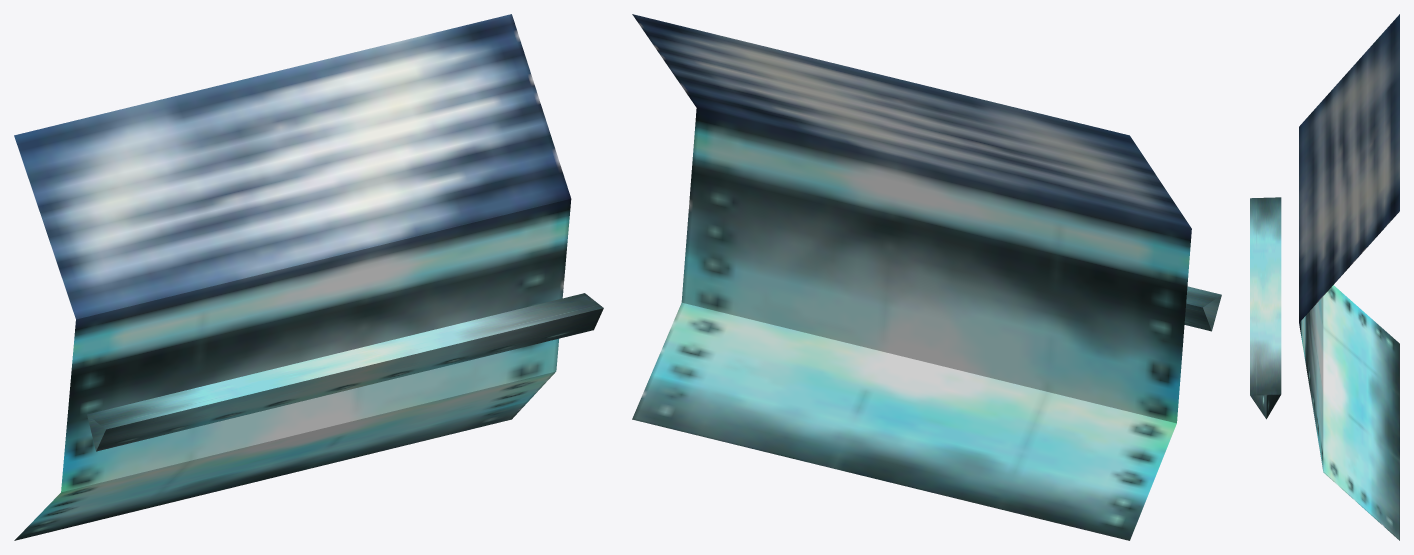
File: W_A_Gang_Gerade_Ministerium_OhneTräger_2517.glb
3 renders of one model, left to right at view 1: azimuth 30°, elevation 25°; view 2: azimuth 150°, elevation 25°; view 3: azimuth 270°, elevation 25°, orthographic. The views are drawn at different scales.
Visible parts, largest first — view 1: pPlaneShape163, pCylinderShape175; view 2: pPlaneShape163, pCylinderShape175; view 3: pPlaneShape163, pCylinderShape175.
Boxes of the visible parts, <box> form: pPlaneShape163: <box>14,14,571,540</box>; pCylinderShape175: <box>87,293,603,451</box>; pPlaneShape163: <box>632,14,1191,540</box>; pCylinderShape175: <box>1184,286,1221,331</box>; pPlaneShape163: <box>1299,14,1399,540</box>; pCylinderShape175: <box>1250,197,1281,419</box>.
Size of the model in its own units: 0.5 by 0.3891 by 0.1602.
2 materials, 2 textured.
